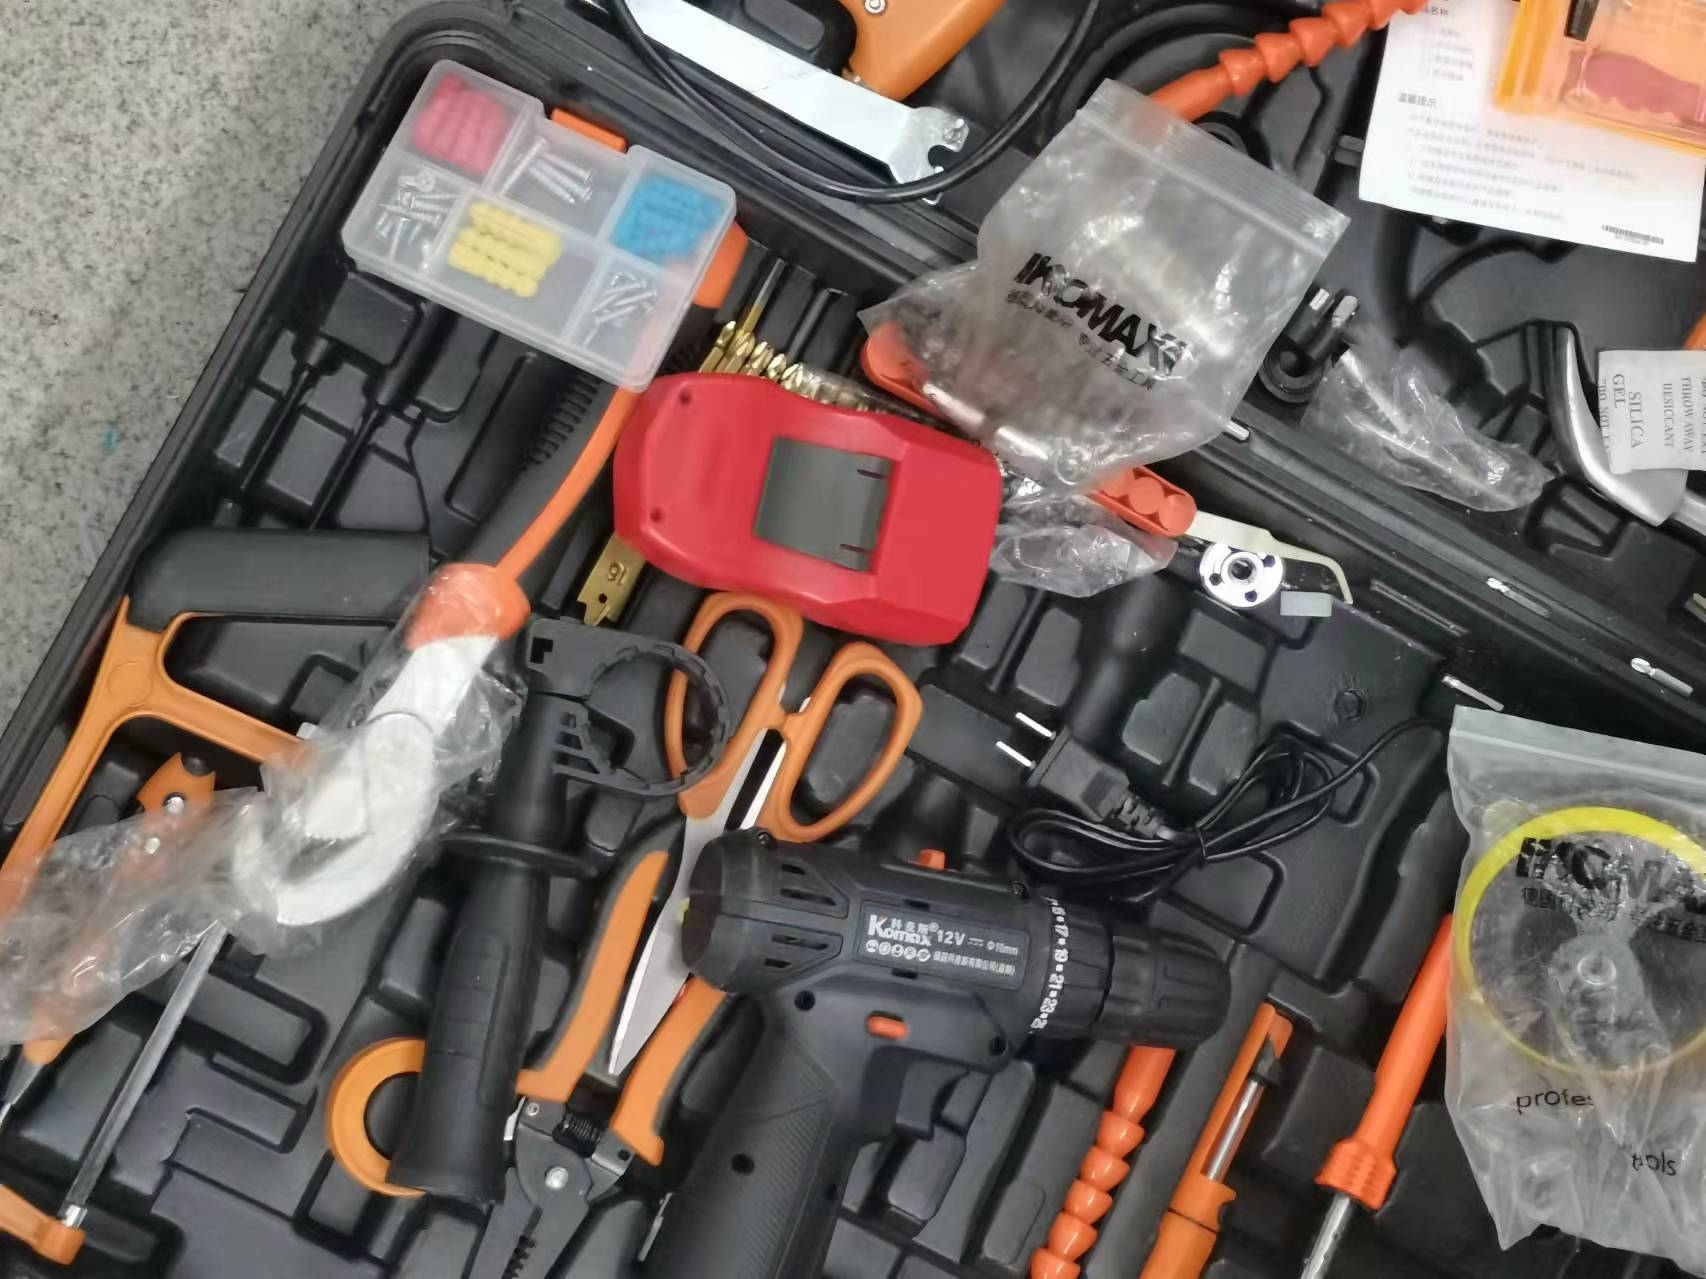Multimeter: (606, 371, 1003, 649)
Screw holes: (672, 383, 694, 414), (649, 505, 666, 524)
